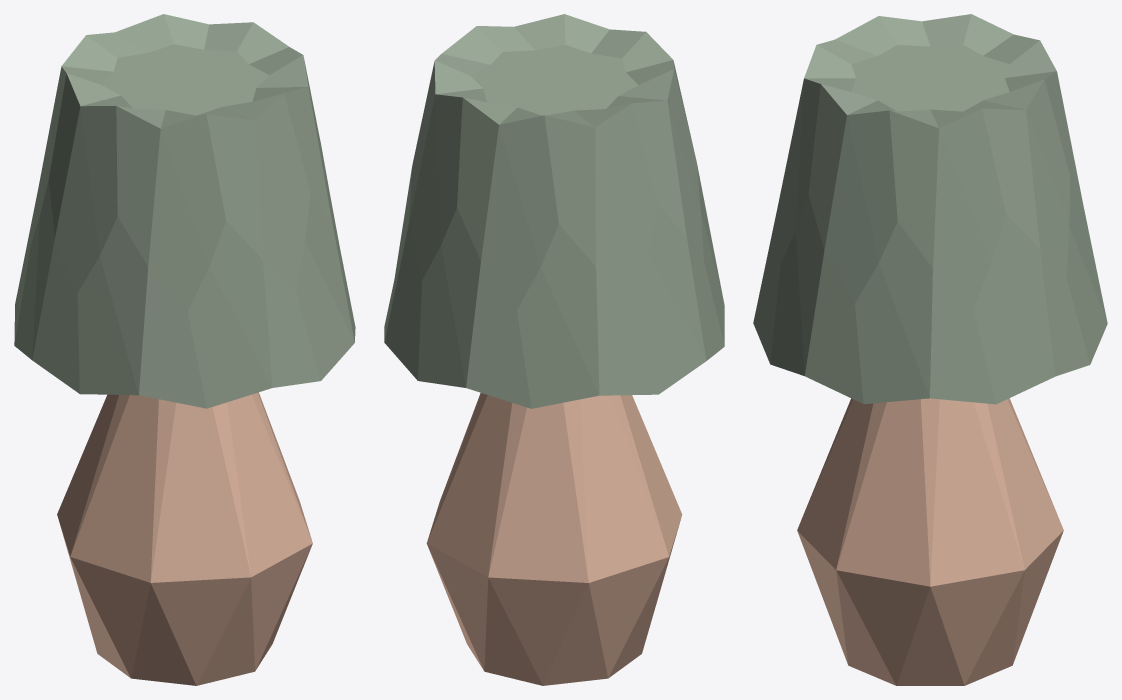
The model's file is livingroom_small_lamp.fbx.
3 renders of one model, left to right at view 1: azimuth 30°, elevation 25°; view 2: azimuth 150°, elevation 25°; view 3: azimuth 270°, elevation 25°, orthographic.
Visible parts, largest first — view 1: livingroom_small_lamp; view 2: livingroom_small_lamp; view 3: livingroom_small_lamp.
Boxes of the visible parts, bbox=[...] form: livingroom_small_lamp: bbox=[14, 14, 355, 685]; livingroom_small_lamp: bbox=[384, 14, 724, 685]; livingroom_small_lamp: bbox=[753, 14, 1107, 685].
Bounding box in the file's own units: 45.28 × 83.02 × 45.28.
